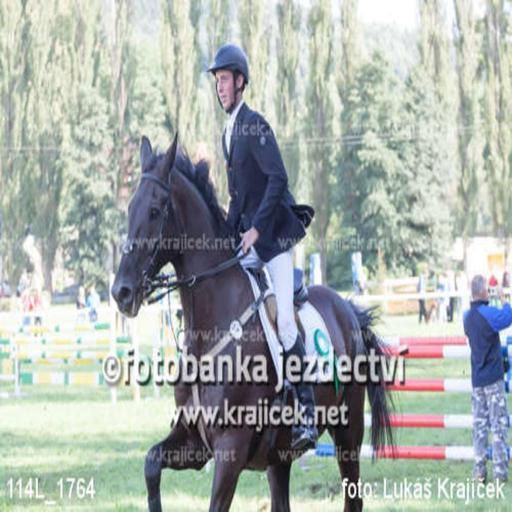horse: (108, 128, 402, 510)
